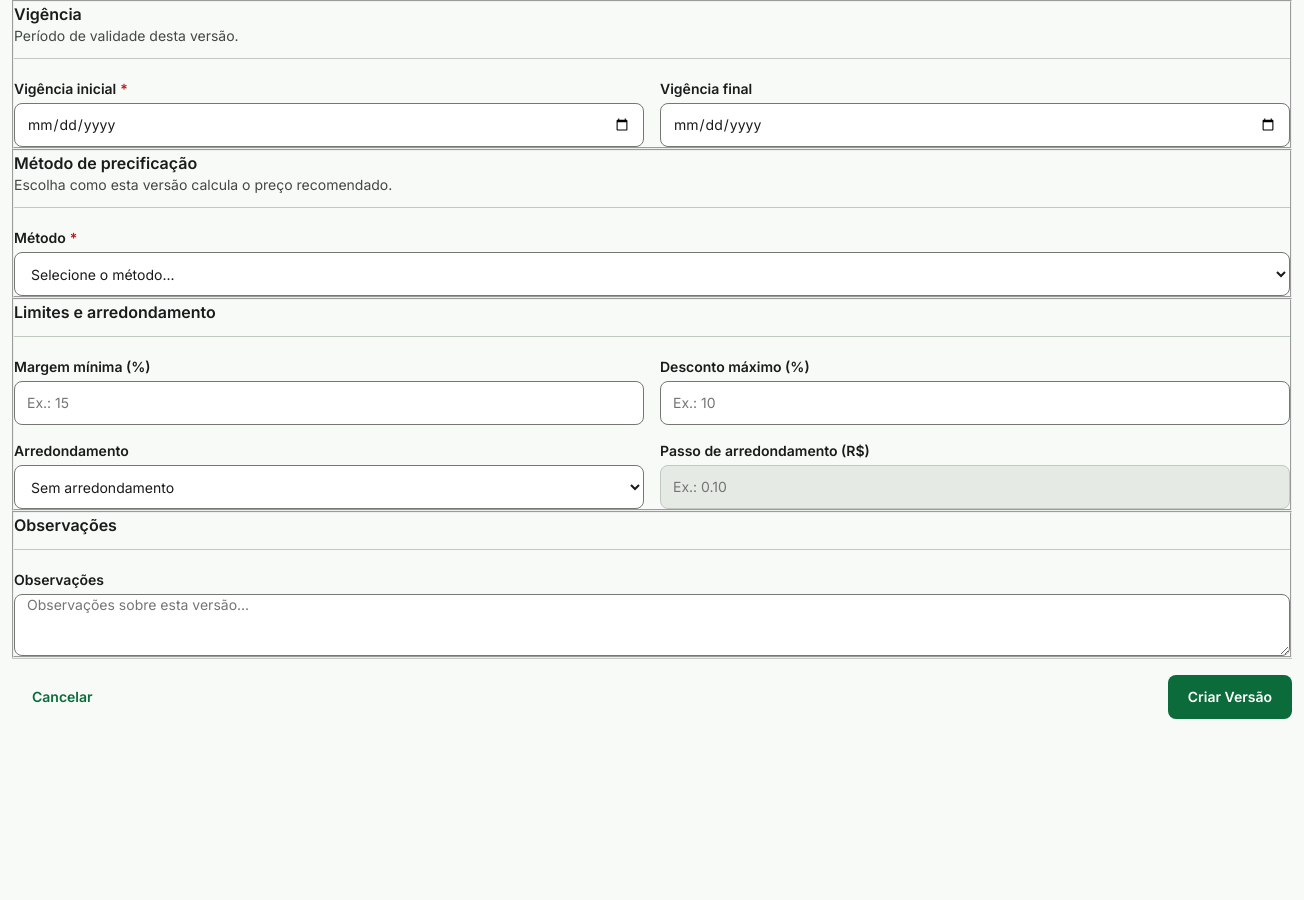
Test case: Version form method-dependent fields (UI-FORM03..04) › UI-FORM03: target_margin shows margem-alvo field only
The width and height of the screenshot is (1304, 900).
Step 1. Select "Margem-alvo" in the dropdown labelled "Método*" → (652, 274), box [14,252,1290,296]
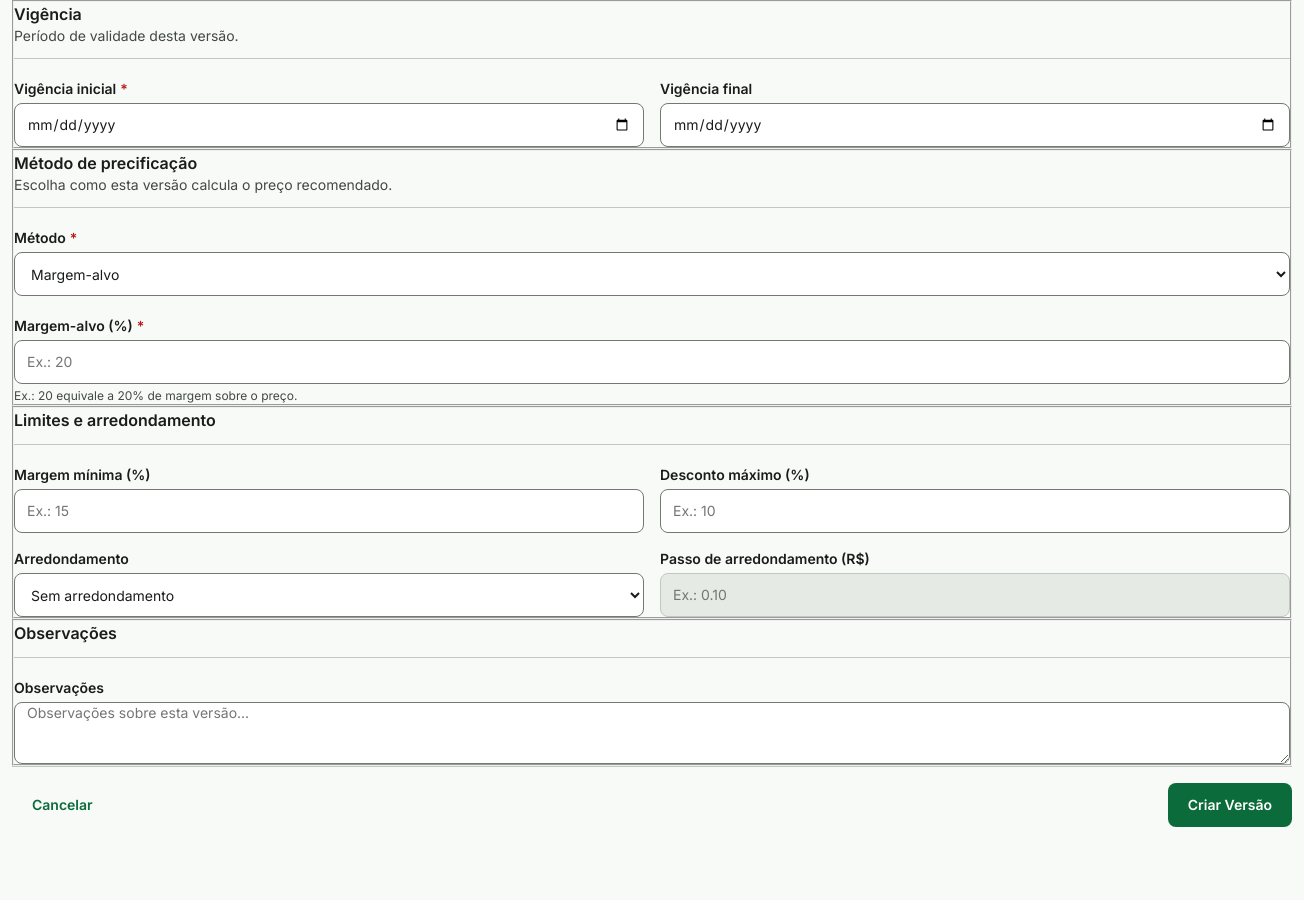
Check: the number field labelled "Margem-alvo (%)*" is shown, box [14,340,1290,384]
